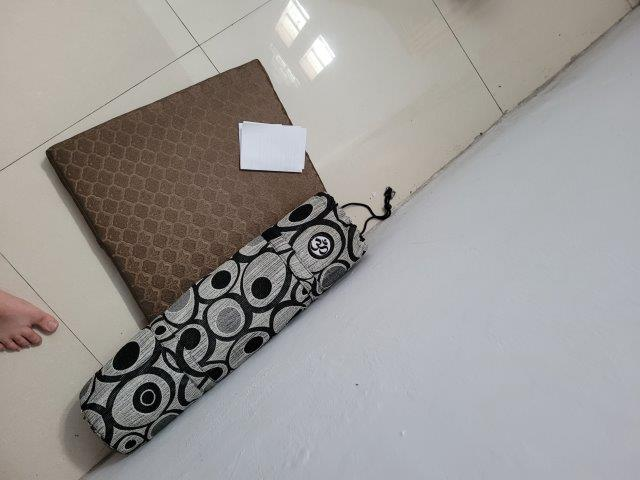kertas: (238, 121, 307, 174)
